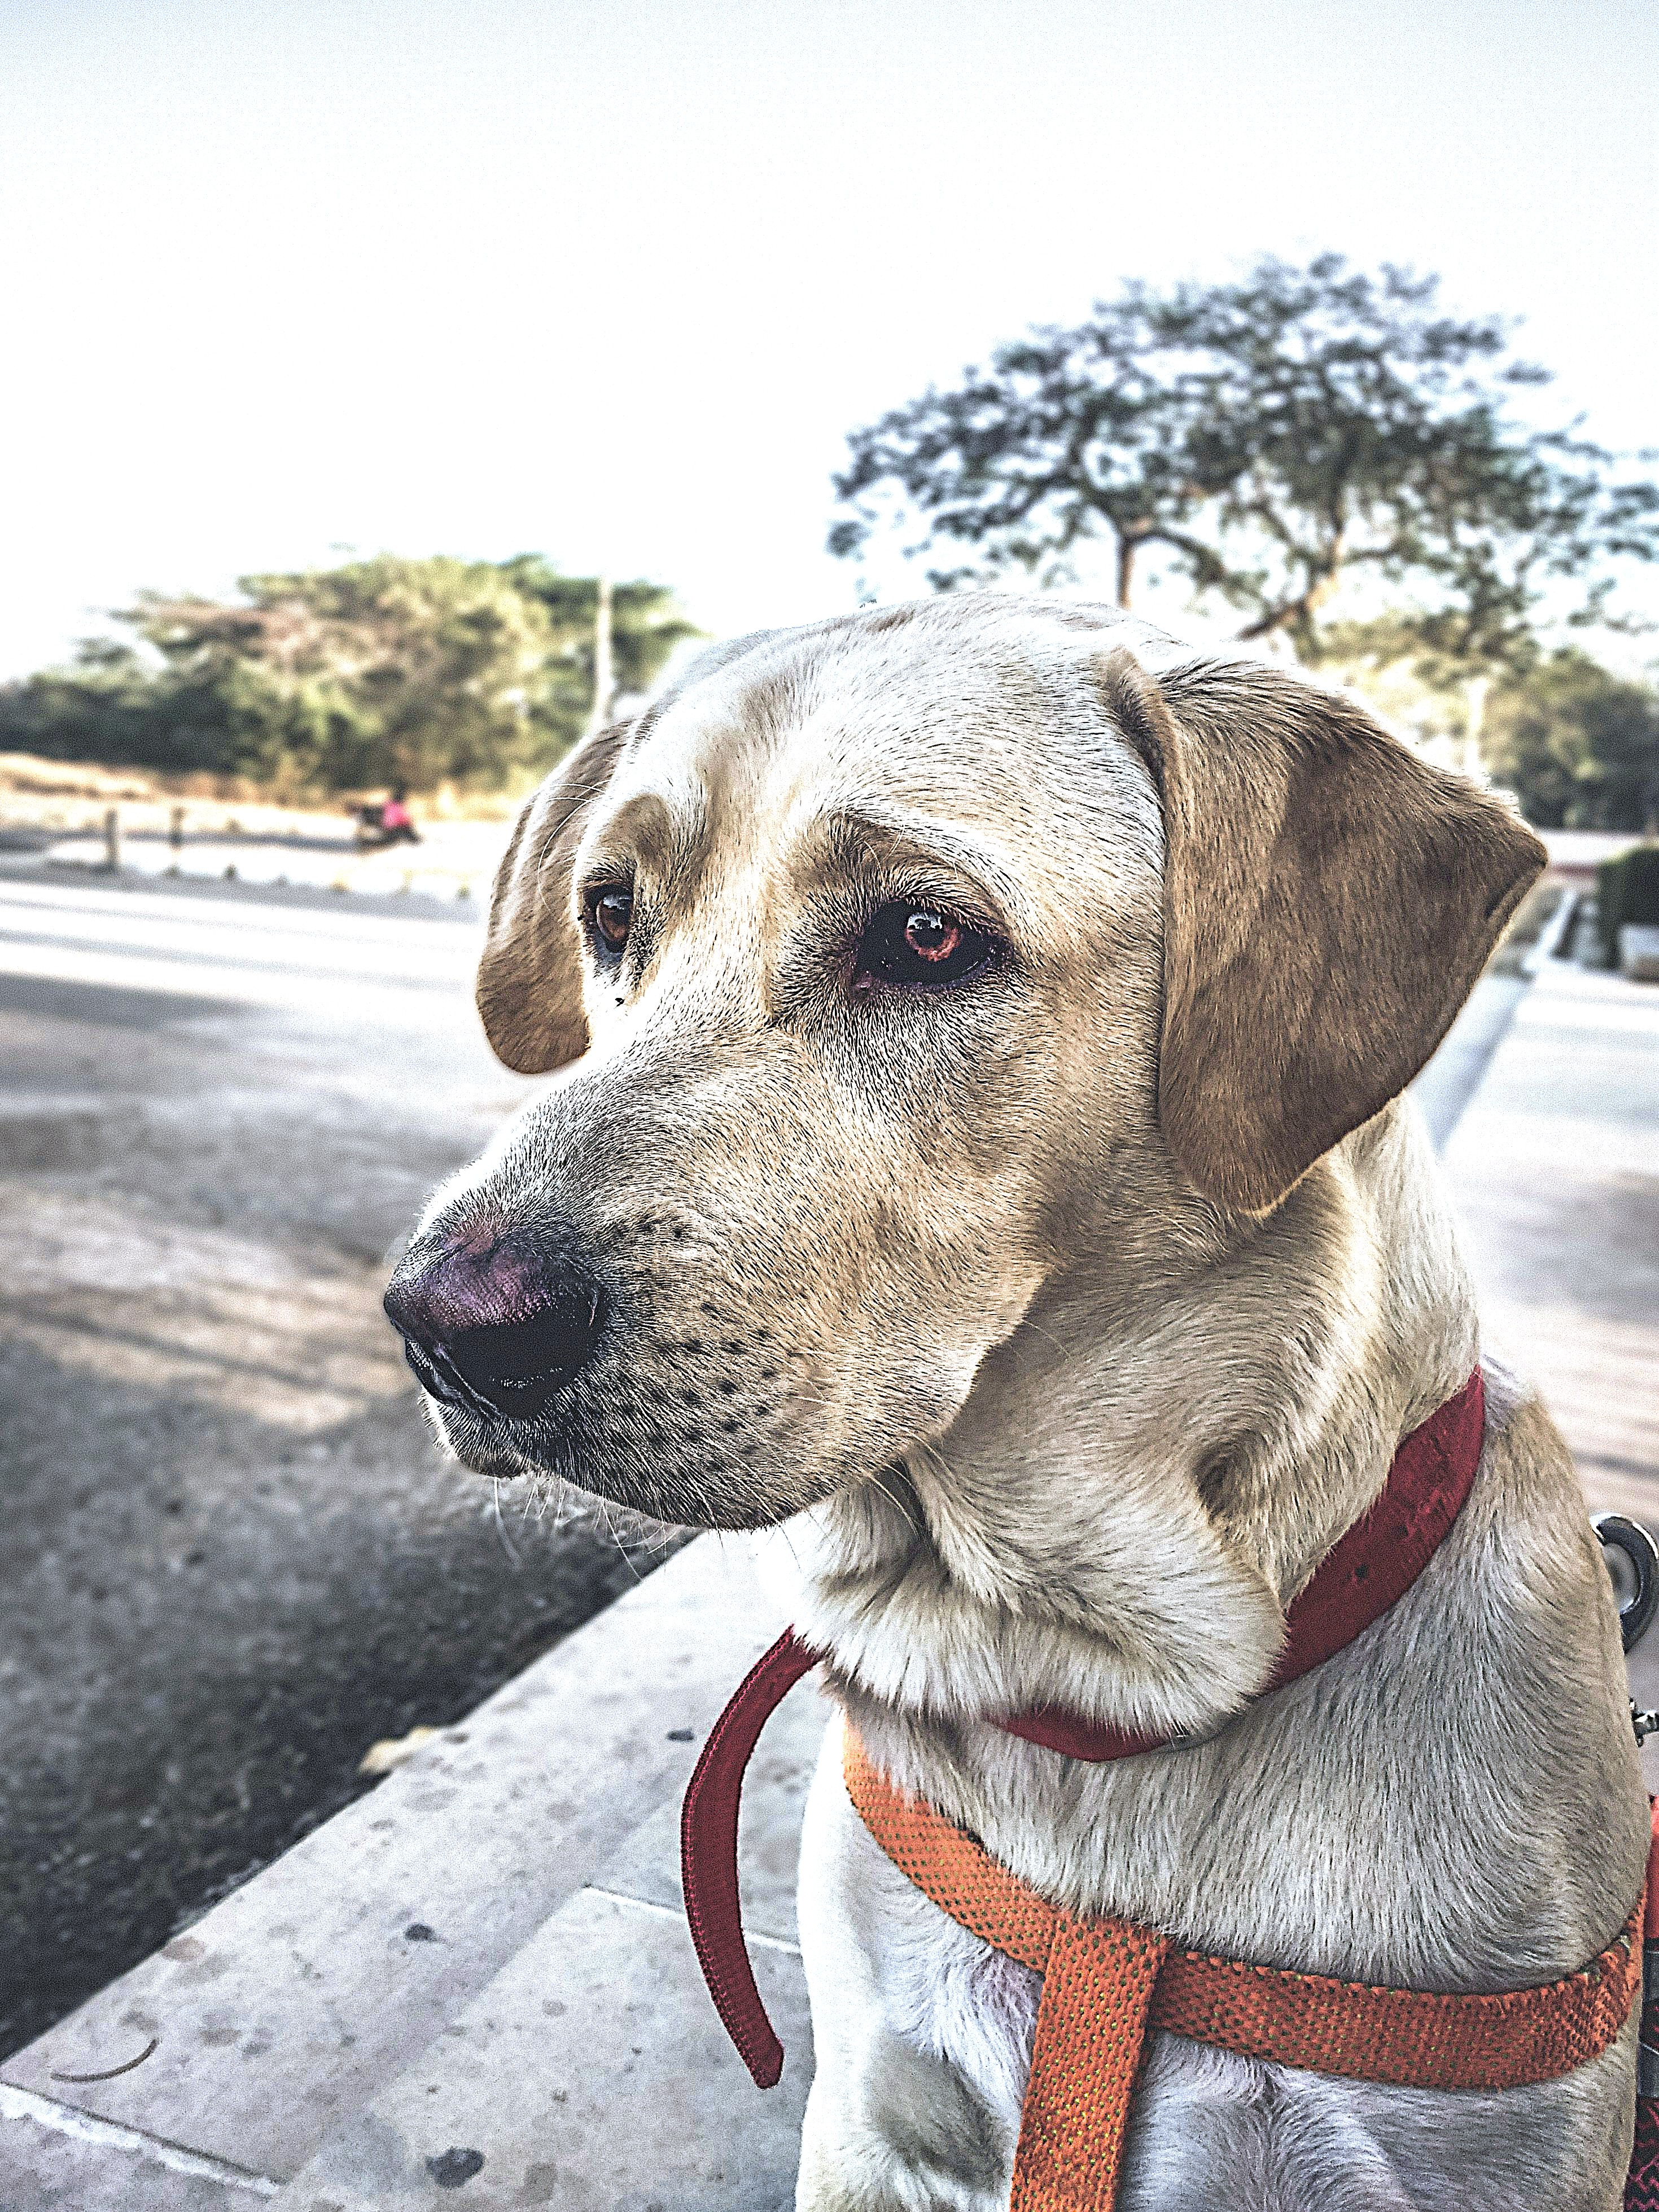dog: (380, 594, 1659, 2212)
